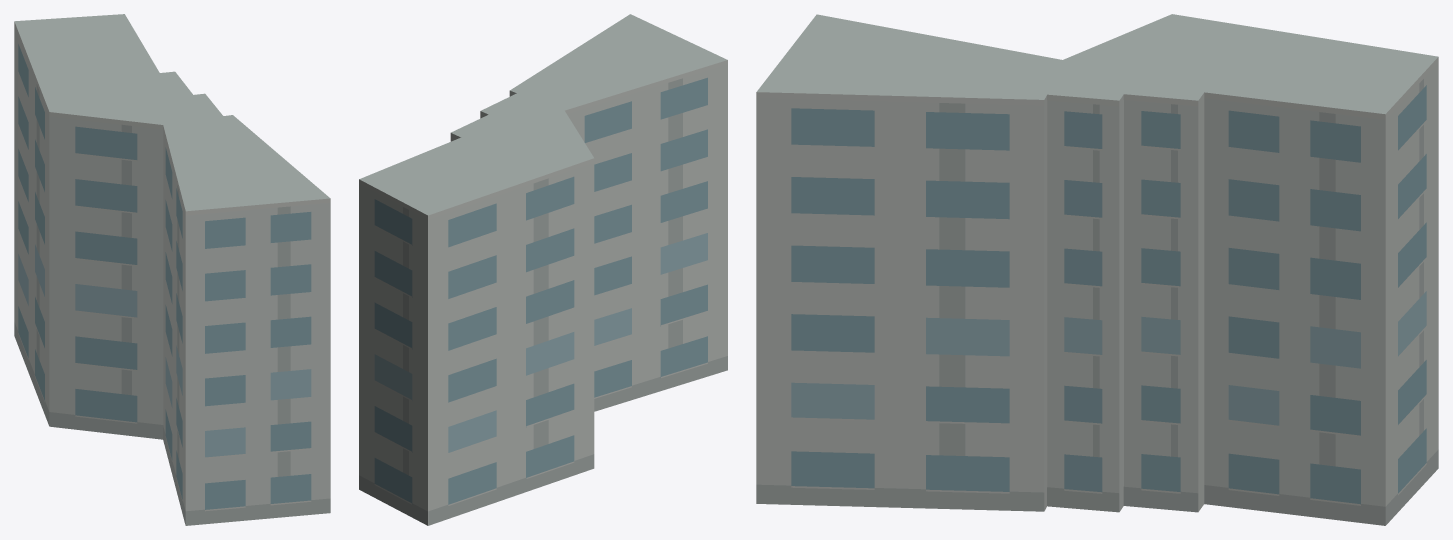
File: survey-upis-32872405.glb
3 views of the same model, side by side, from view 1: azimuth 30°, elevation 25°; view 2: azimuth 150°, elevation 25°; view 3: azimuth 270°, elevation 25° (orthographic). The views are drawn at different scales.
Visible parts, largest first — view 1: survey-upis-32872405.tmp; view 2: survey-upis-32872405.tmp; view 3: survey-upis-32872405.tmp.
Boxes of the visible parts, bbox=[...] form: survey-upis-32872405.tmp: bbox=[14, 14, 330, 525]; survey-upis-32872405.tmp: bbox=[359, 14, 727, 525]; survey-upis-32872405.tmp: bbox=[756, 14, 1438, 525].
Bounding box in the file's own units: 9.04 × 17.3 × 25.99.
